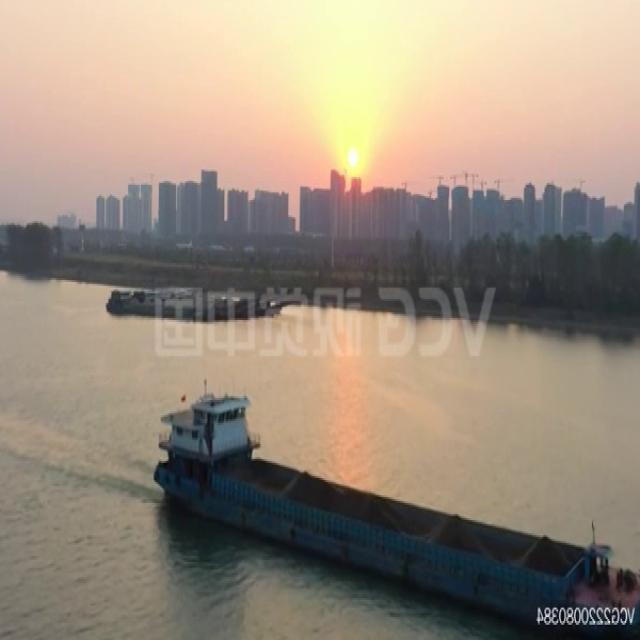cargoship: (154, 382, 640, 632)
